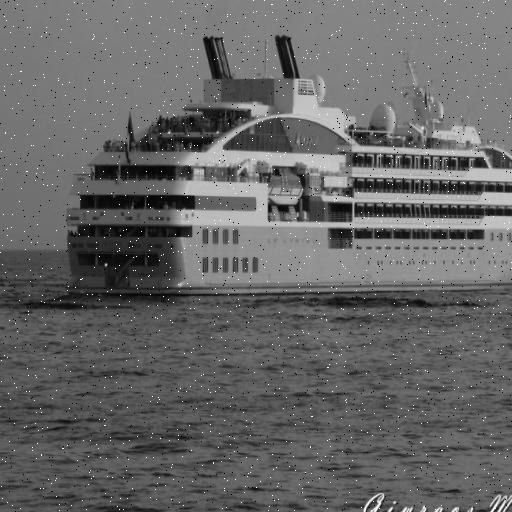cruises: (58, 30, 512, 299)
